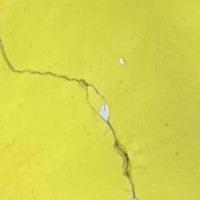crack: (0, 38, 137, 198)
